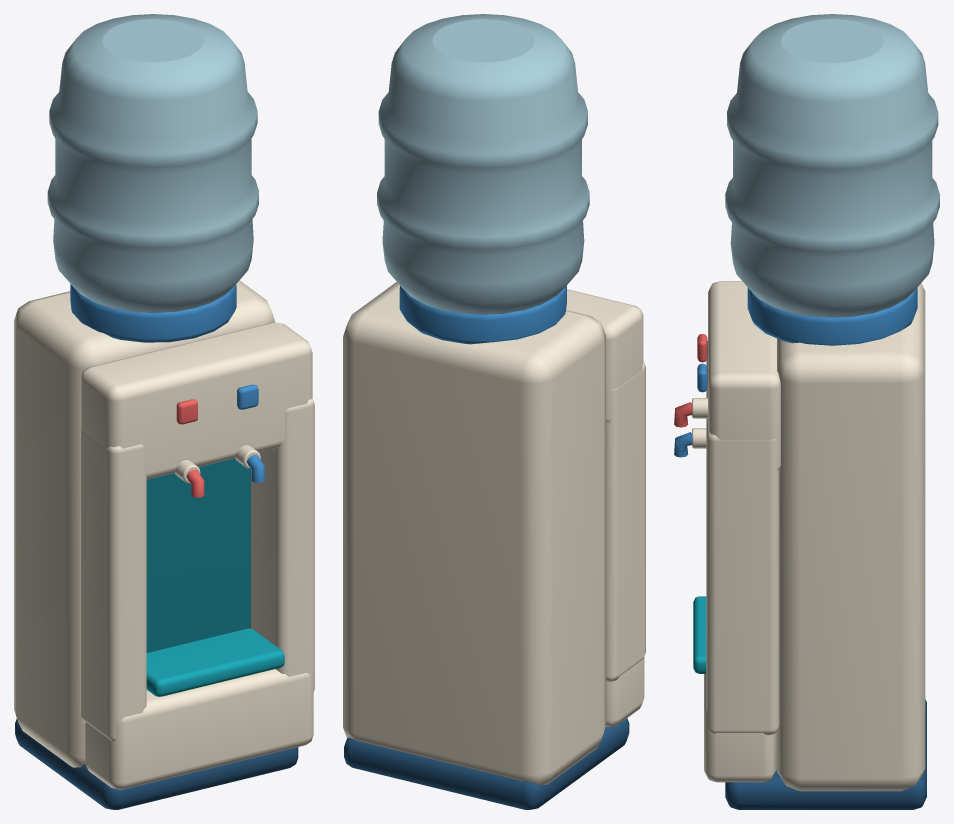
File: Reception_Water_Cooler.glb
The picture shows the model from 3 angles, left to right: view 1: azimuth 30°, elevation 25°; view 2: azimuth 150°, elevation 25°; view 3: azimuth 270°, elevation 25°; orthographic projection.
Parts seen in each view (by area): view 1: Reception_Water_Cooler__Visual; view 2: Reception_Water_Cooler__Visual; view 3: Reception_Water_Cooler__Visual.
Boxes of the visible parts, x1,y1,x2,y2 form: Reception_Water_Cooler__Visual: (14,14,314,809); Reception_Water_Cooler__Visual: (343,14,645,809); Reception_Water_Cooler__Visual: (674,14,939,809).
Size of the model in its own units: 0.445 by 1.47 by 0.488.
1 material, 1 textured.
